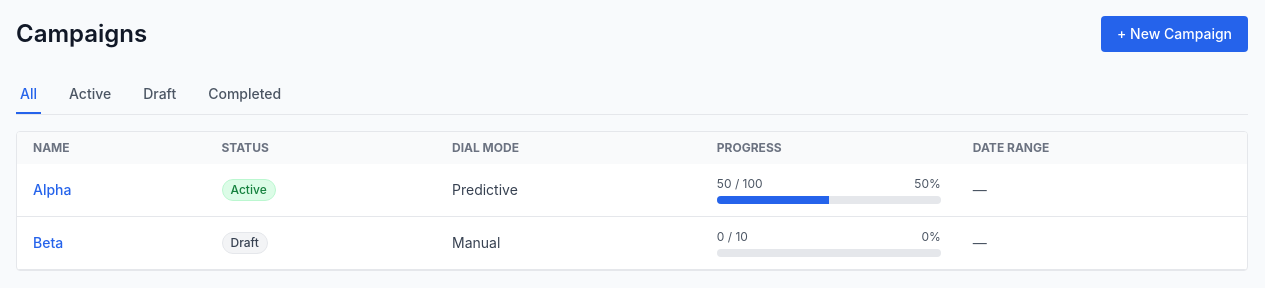
Test: CampaignsPage › filters to draft when Draft tab clicked
Expected: the link "Alpha" is shown, [33,181,72,198]
Click the tab "Draft" at x=160, y=95, box [139,76,180,114]
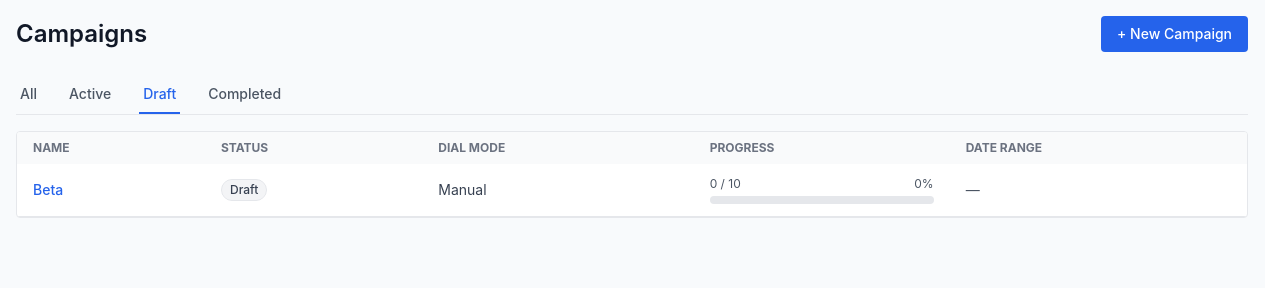
Expected: the link "Beta" is shown, [33,181,63,198]
Expected: the link "Alpha" is gone
